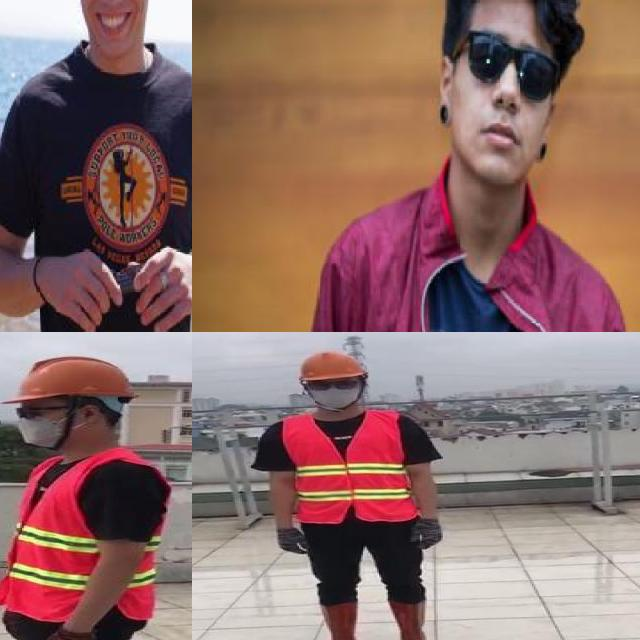boots: (386, 600, 440, 640), (313, 603, 367, 640)
face_mask: (9, 402, 74, 448)
face_nomask: (464, 29, 556, 158), (78, 0, 147, 34)
glasses: (451, 24, 569, 97), (8, 399, 56, 422)
hand_glove: (39, 629, 100, 640)
hand_noglove: (46, 245, 123, 331), (127, 243, 192, 332)
head_helmet: (1, 352, 139, 406), (294, 349, 368, 382)
head_nohelmet: (20, 0, 192, 332), (442, 0, 577, 23)
person: (305, 0, 639, 332), (251, 348, 461, 640), (0, 346, 177, 640)
vest: (1, 451, 164, 623), (279, 410, 416, 522)
